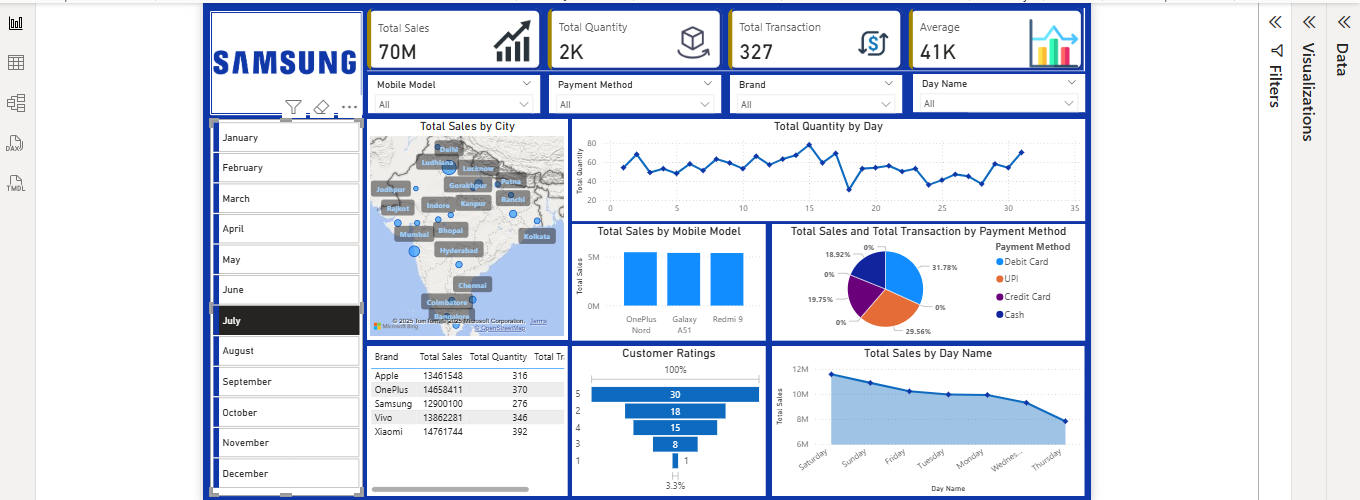

What the dashboard file says about the page in this screenshot:
{"tool":"powerbi","page":{"name":"Page 1","canvas":[1280,720],"ordinal":0},"visuals":[{"type":"shape","box":[10.1,11.5,220.3,149.8],"z":0},{"type":"image","box":[10.1,13,220.3,145.4],"z":1000},{"type":"shape","box":[10.1,167,220.3,542.9],"z":2000},{"type":"advancedSlicerVisual","fields":{"Values":["Sales_Data.DATE.Variation.Date Hierarchy.Month"]},"box":[10.1,167,220.3,542.9],"z":3000},{"type":"cardVisual","fields":{"Data":["Sales_Data.Total Sales","Sales_Data.Total Quantity","Sales_Data.Total Transaction","Sales_Data.Average"]},"box":[236.2,7.2,1033.9,90.7],"z":4000},{"type":"map","fields":{"Category":["Sales_Data.City"],"Size":["Sales_Data.Total Sales"]},"box":[236.2,167,289.4,318.2],"z":5000},{"type":"lineChart","fields":{"Y":["Sales_Data.Total Quantity"],"Category":["Sales_Data.DATE.Variation.Date Hierarchy.Month","Sales_Data.DATE.Variation.Date Hierarchy.Day"]},"box":[531.4,167,738.7,146.9],"z":6000},{"type":"clusteredColumnChart","fields":{"Category":["Sales_Data.Mobile Model"],"Y":["Sales_Data.Total Sales"]},"box":[531.4,318.2,279.4,168.5],"z":7000},{"type":"pieChart","fields":{"Category":["Sales_Data.Payment Method"],"Y":["Sales_Data.Total Sales","Sales_Data.Total Transaction"]},"box":[819.4,318.2,450.7,168.5],"z":8000},{"type":"funnel","title":" Customer Ratings","fields":{"Category":["Sales_Data.Customer Ratings"],"Y":["CountNonNull(Sales_Data.Customer Name)"]},"box":[531.4,493.9,279.4,216],"z":9000},{"type":"areaChart","fields":{"Category":["Sales_Data.Day Name"],"Y":["Sales_Data.Total Sales"]},"box":[819.4,493.9,450,216],"z":10000},{"type":"tableEx","fields":{"Values":["Sales_Data.Brand","Sales_Data.Total Sales","Sales_Data.Total Quantity","Sales_Data.Total Transaction"]},"box":[236.2,493.9,289.4,216],"z":11000},{"type":"slicer","fields":{"Values":["Sales_Data.Mobile Model"]},"box":[237.6,103.7,247.7,54.7],"z":12000},{"type":"slicer","fields":{"Values":["Sales_Data.Payment Method"]},"box":[498.2,103.7,247.7,54.7],"z":12001},{"type":"slicer","fields":{"Values":["Sales_Data.Brand"]},"box":[758.9,103.7,247.7,54.7],"z":12002},{"type":"slicer","fields":{"Values":["Sales_Data.Day Name"]},"box":[1022.4,102.2,247.7,54.7],"z":12003}]}

Visuals, with their boxes on the page's 1280x720 design canvas (x1, y1, x2, y2). These are canvas units, not pixel positions in the 1360x500 screenshot, which may show the page scaled, cropped or inside an application window:
shape: (left=10, top=12, right=230, bottom=161)
image: (left=10, top=13, right=230, bottom=158)
shape: (left=10, top=167, right=230, bottom=710)
advancedSlicerVisual - Sales_Data.DATE.Variation.Date Hierarchy.Month: (left=10, top=167, right=230, bottom=710)
cardVisual - Sales_Data.Total Sales x Sales_Data.Total Quantity: (left=236, top=7, right=1270, bottom=98)
map - Sales_Data.City x Sales_Data.Total Sales: (left=236, top=167, right=526, bottom=485)
lineChart - Sales_Data.Total Quantity x Sales_Data.DATE.Variation.Date Hierarchy.Month: (left=531, top=167, right=1270, bottom=314)
clusteredColumnChart - Sales_Data.Mobile Model x Sales_Data.Total Sales: (left=531, top=318, right=811, bottom=487)
pieChart - Sales_Data.Payment Method x Sales_Data.Total Sales: (left=819, top=318, right=1270, bottom=487)
" Customer Ratings" funnel: (left=531, top=494, right=811, bottom=710)
areaChart - Sales_Data.Day Name x Sales_Data.Total Sales: (left=819, top=494, right=1269, bottom=710)
tableEx - Sales_Data.Brand x Sales_Data.Total Sales: (left=236, top=494, right=526, bottom=710)
slicer - Sales_Data.Mobile Model: (left=238, top=104, right=485, bottom=158)
slicer - Sales_Data.Payment Method: (left=498, top=104, right=746, bottom=158)
slicer - Sales_Data.Brand: (left=759, top=104, right=1007, bottom=158)
slicer - Sales_Data.Day Name: (left=1022, top=102, right=1270, bottom=157)
